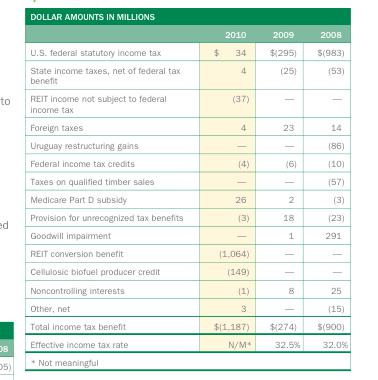table: (29, 28, 347, 349)
table column: (29, 28, 197, 349), (197, 28, 259, 349), (259, 28, 307, 349), (307, 28, 347, 349)
table column header: (29, 28, 347, 42)
table row: (29, 60, 347, 89), (29, 89, 347, 117), (29, 171, 347, 190), (29, 42, 347, 60), (29, 117, 347, 135), (29, 135, 347, 153), (29, 153, 347, 171), (29, 190, 347, 208), (29, 208, 347, 226), (29, 226, 347, 244), (29, 244, 347, 262), (29, 262, 347, 280), (29, 280, 347, 298), (29, 298, 347, 316), (29, 316, 347, 334), (29, 334, 347, 349), (29, 28, 347, 42)
